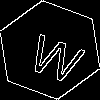W: (25, 25, 90, 85)
